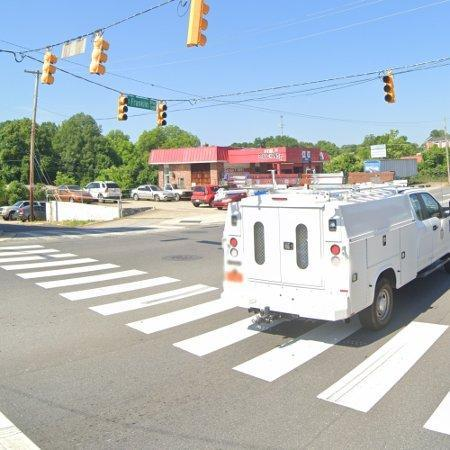crosswalk: (1, 242, 450, 442)
